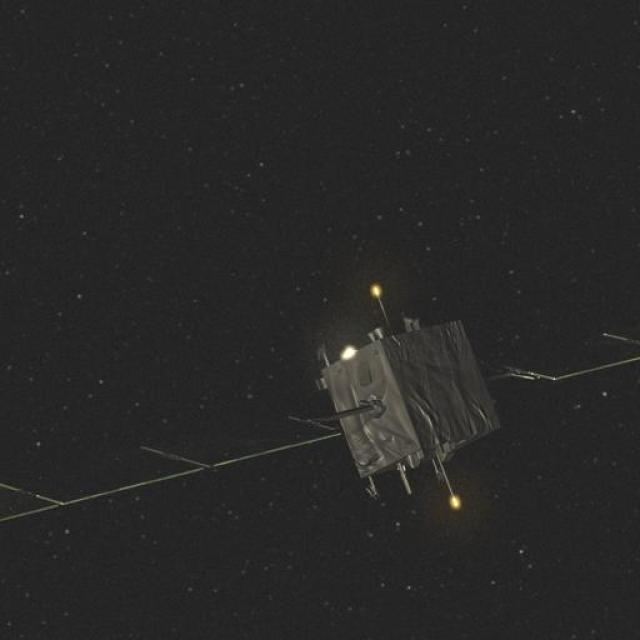smart_1: (96, 265, 576, 532)
